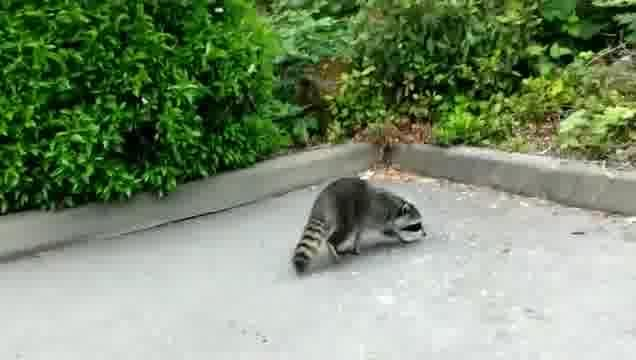raccoon: (292, 176, 430, 274)
